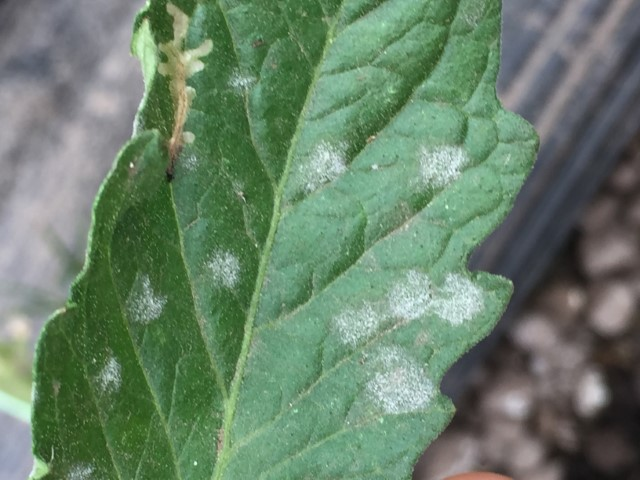oidio: (365, 345, 437, 418), (435, 272, 486, 328), (300, 137, 347, 196), (416, 139, 469, 187), (387, 270, 433, 322), (332, 299, 383, 343), (126, 273, 168, 324), (207, 251, 240, 290), (94, 351, 121, 392), (224, 67, 256, 89), (64, 462, 96, 480), (180, 152, 197, 172), (229, 178, 246, 198)
